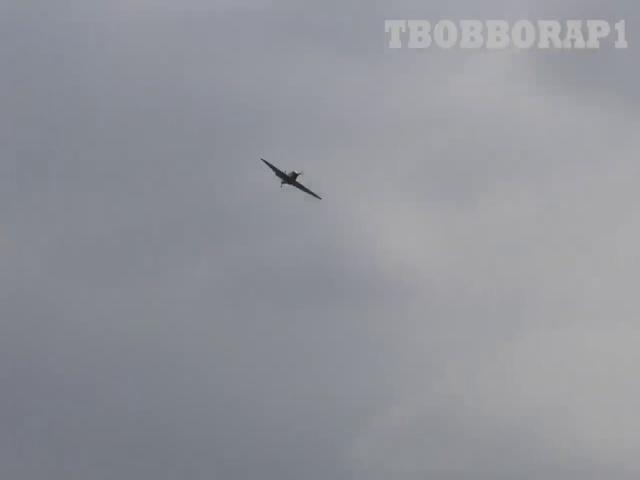Airplane: (260, 154, 323, 204)
